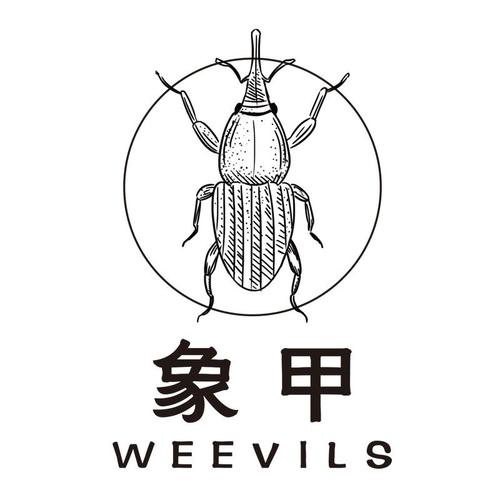Curculionidae: (154, 28, 351, 324)
